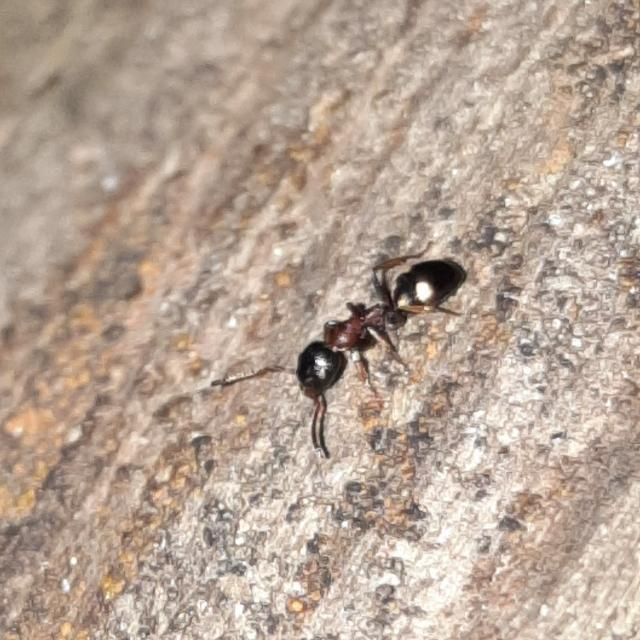Dolichoderus: (254, 228, 482, 434)
